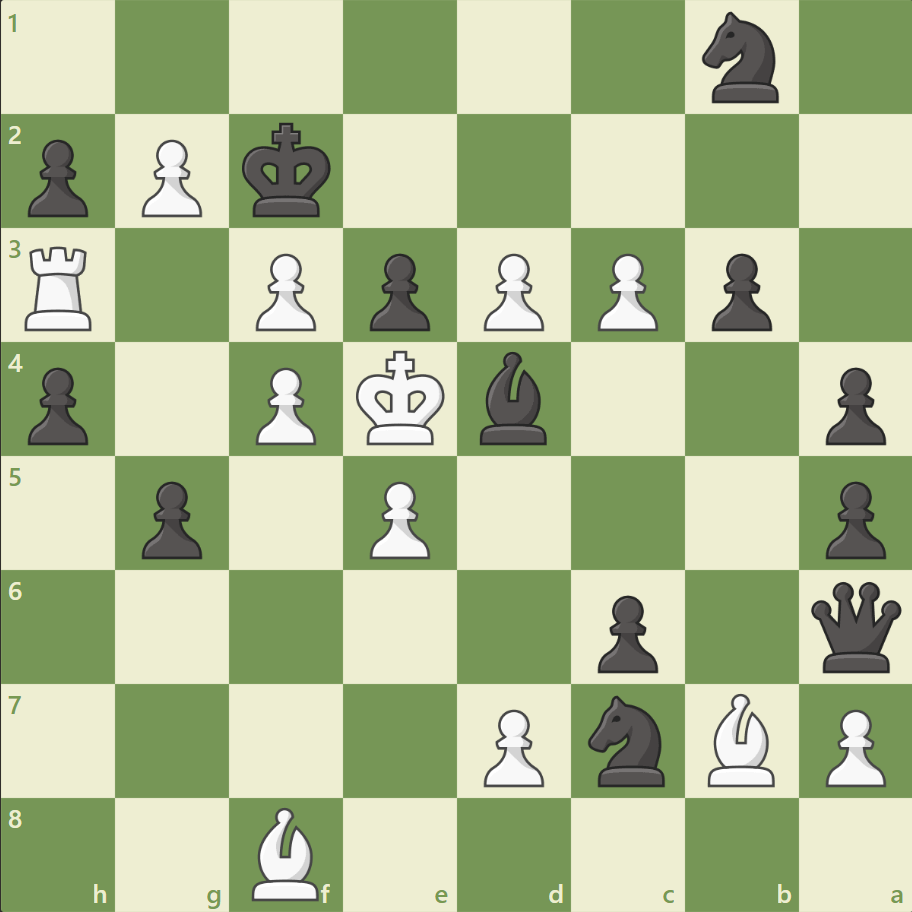B: (244, 801, 328, 904), (698, 687, 782, 790)
K: (351, 344, 451, 452)
P: (474, 700, 549, 791), (247, 359, 322, 450), (474, 246, 549, 337), (247, 246, 322, 337), (133, 132, 208, 223), (815, 700, 889, 791), (361, 473, 435, 564), (588, 246, 662, 337)
R: (19, 239, 102, 336)
b: (471, 347, 555, 449)
k: (238, 117, 338, 225)
n: (579, 688, 676, 791), (692, 7, 789, 110)
p: (133, 473, 208, 564), (20, 359, 95, 450), (701, 246, 776, 337), (20, 132, 95, 223), (588, 586, 662, 677), (815, 473, 889, 564), (815, 359, 889, 450), (361, 246, 435, 337)
q: (805, 576, 904, 676)
